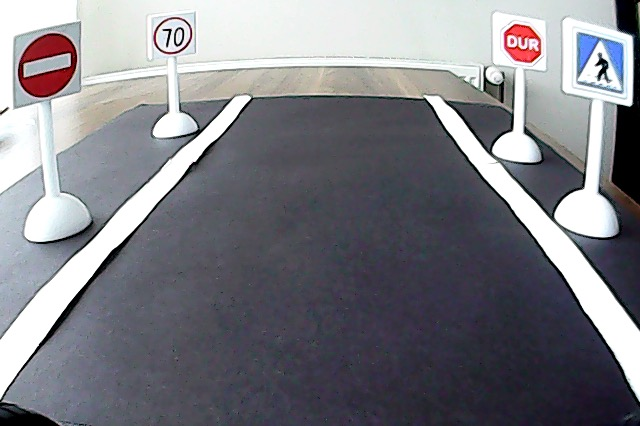do not enter: (18, 32, 77, 106)
pedestrian crossing: (570, 28, 630, 101)
speed limit 70: (154, 17, 193, 57)
stop sign: (500, 20, 546, 71)
